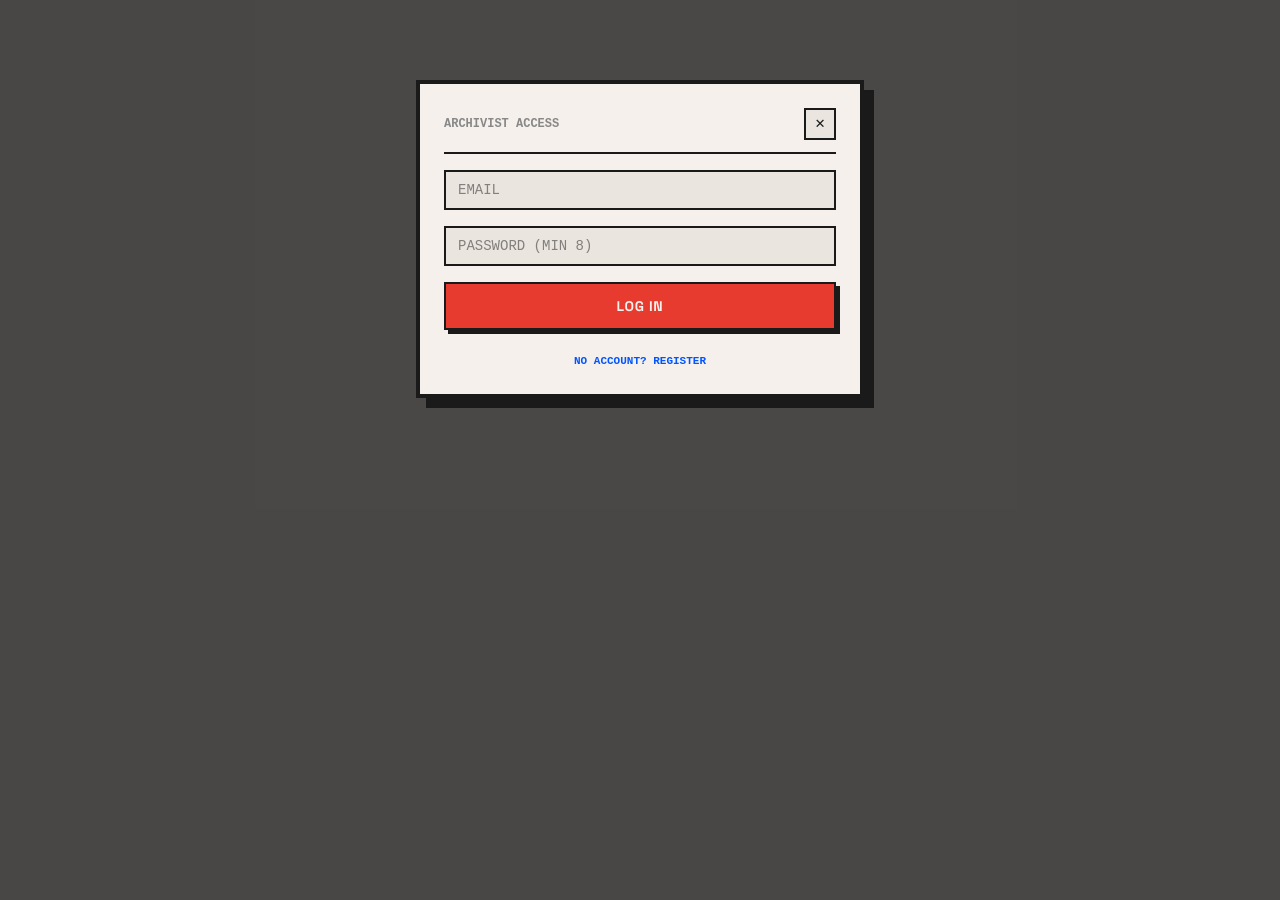
Test: AuthModal › shows the API message on bad credentials and stays open
The width and height of the screenshot is (1280, 900).
Type "ada@example.com" into the field with placeholder "EMAIL".
click(640, 190); type("ada@example.com")  # box [444,170,836,210]
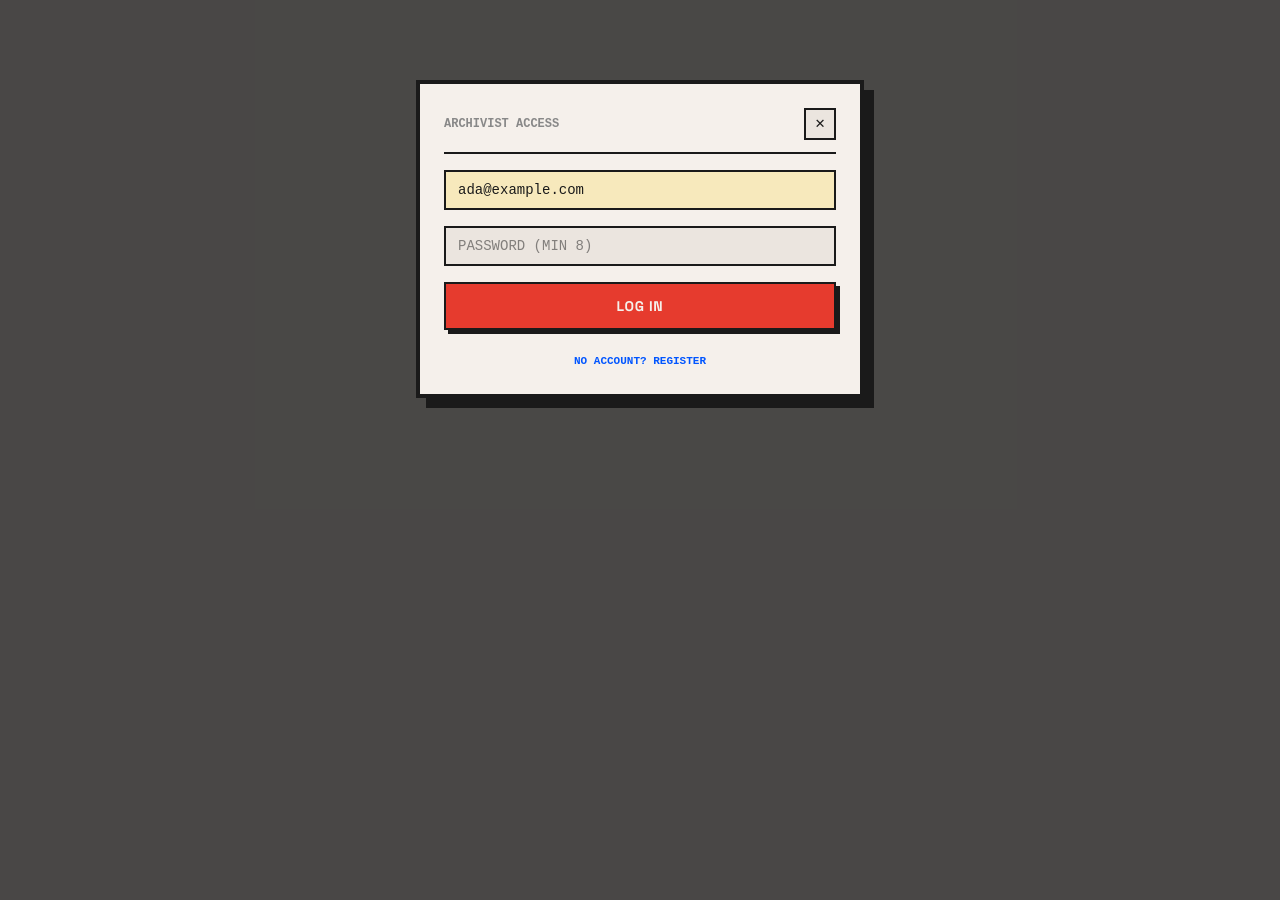
Type "wrongpass" into the password field with placeholder "PASSWORD (MIN 8)".
click(640, 246); type("wrongpass")  # box [444,226,836,266]
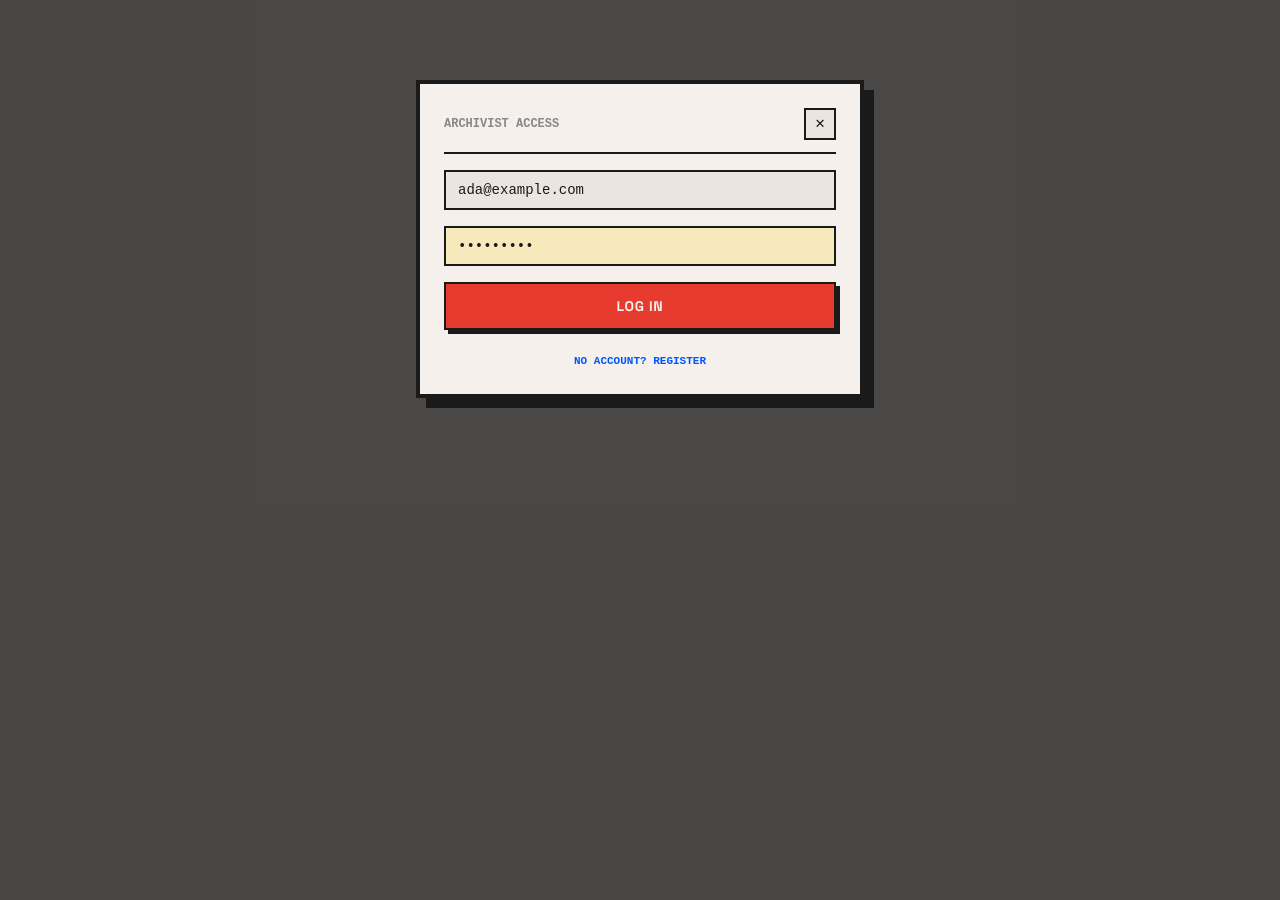
Click the button "LOG IN".
click(640, 306)  # box [444,282,836,330]
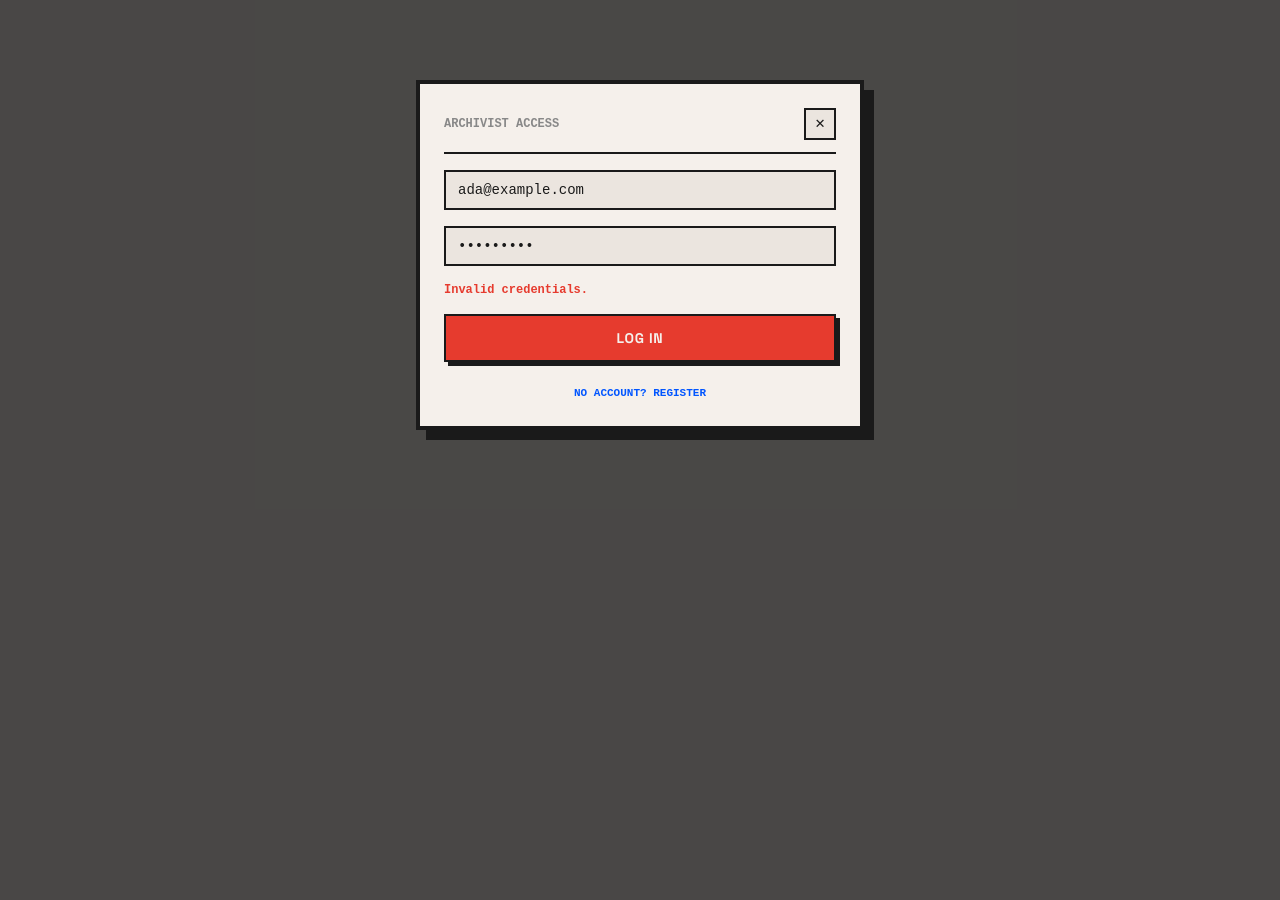
Expected: the button "LOG IN" is enabled, [444,314,836,362]
Result: the text "Invalid credentials." is shown at [444,283,588,297]
